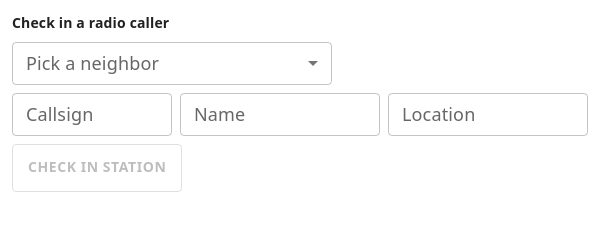
Test: RadioCheckinForm › fills the fields from a picked contact
The width and height of the screenshot is (605, 250).
Click the dropdown named "pick a neighbor". click: (172, 63)
box: x1=12 y1=42 x2=332 y2=85
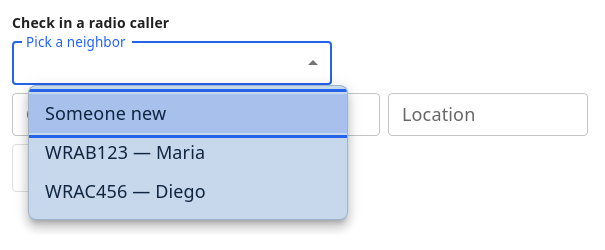
Click the option "WRAB123 — Maria". click: (125, 152)
box: x1=45 y1=140 x2=205 y2=164
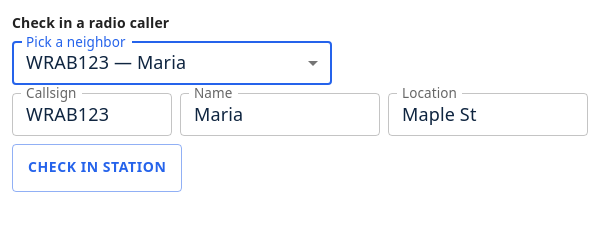
Expected: the field labelled "Callsign" holds "WRAB123", x1=12 y1=93 x2=172 y2=136
Expected: the field labelled "Name" holds "Maria", x1=180 y1=93 x2=380 y2=136
Expected: the field labelled "Location" holds "Maple St", x1=388 y1=93 x2=588 y2=136
